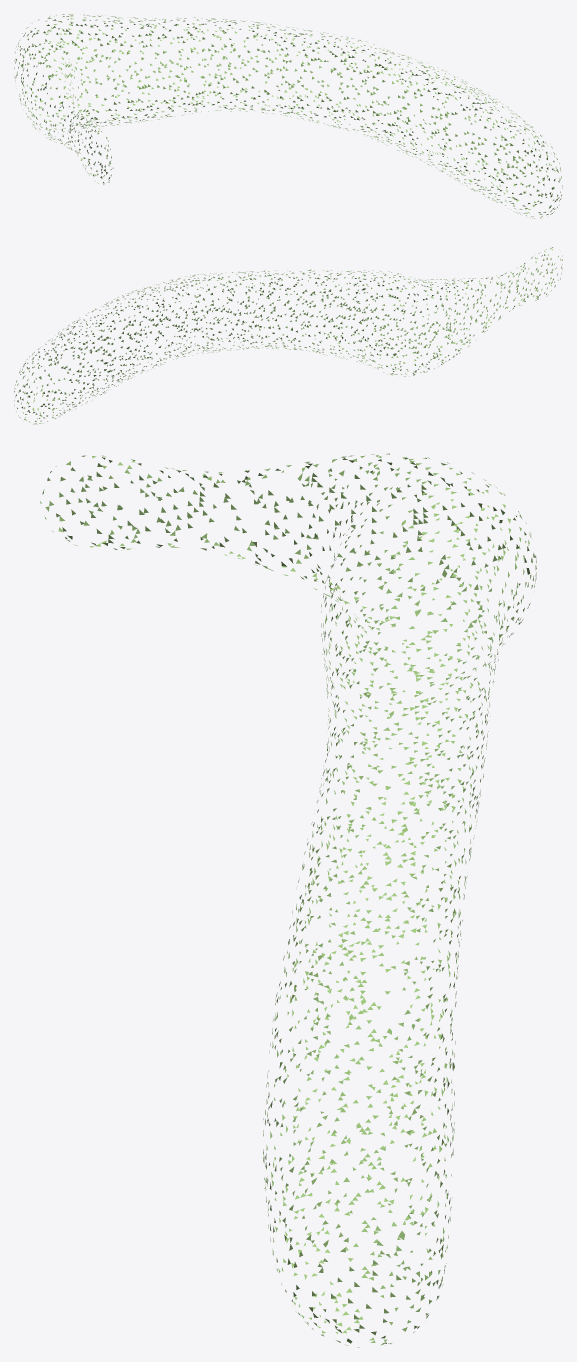
The model's file is morph_013.glb.
3 renders of one model, top to bottom at view 1: azimuth 30°, elevation 25°; view 2: azimuth 150°, elevation 25°; view 3: azimuth 270°, elevation 25°, orthographic. The views are drawn at different scales.
Size of the model in its own units: 130 by 66.48 by 60.67.
